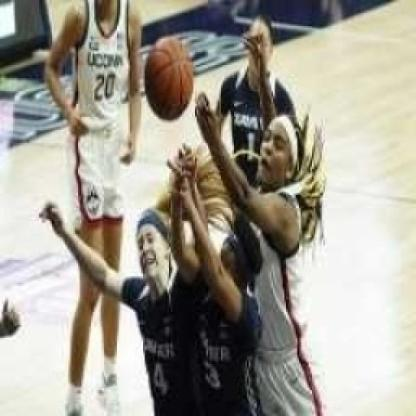basketball: (144, 33, 194, 120)
